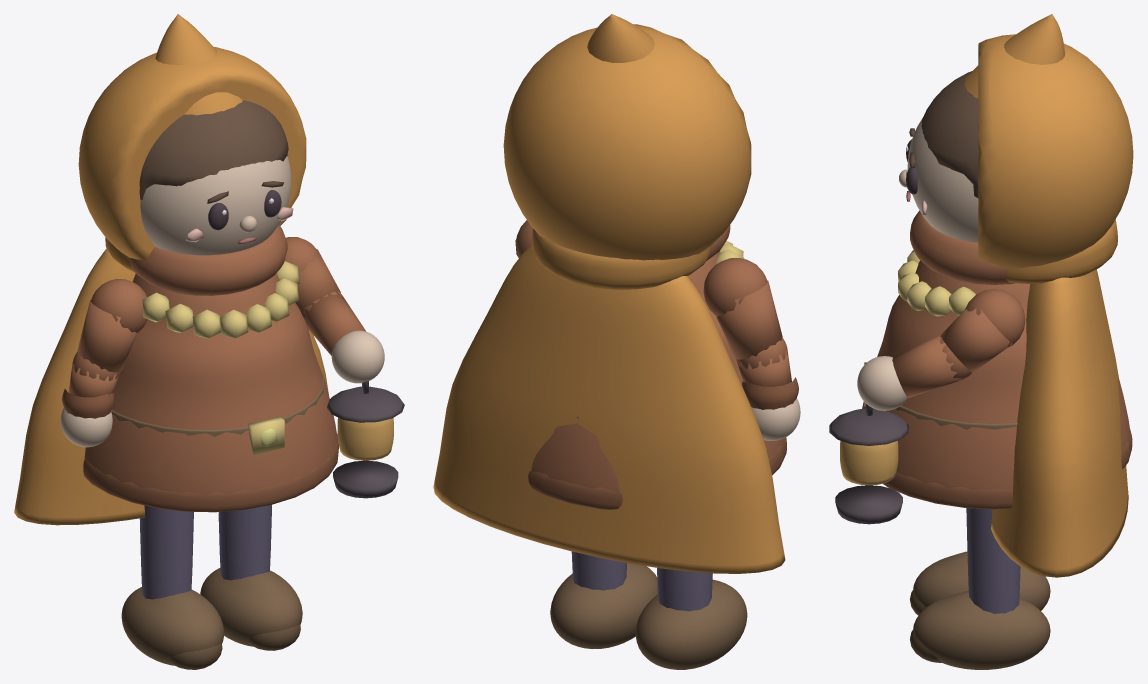
The model's file is hero_monk.glb.
The picture shows the model from 3 angles, left to right: view 1: azimuth 30°, elevation 25°; view 2: azimuth 150°, elevation 25°; view 3: azimuth 270°, elevation 25°; orthographic projection. The views are drawn at different scales.
Visible parts, largest first — view 1: hero_monk; view 2: hero_monk; view 3: hero_monk.
Part boxes in pixels (<box>): hero_monk: <box>14,14,404,669</box>; hero_monk: <box>433,14,800,669</box>; hero_monk: <box>829,14,1133,669</box>.
Bounding box in the file's own units: 1.11 × 2.03 × 0.8943.
